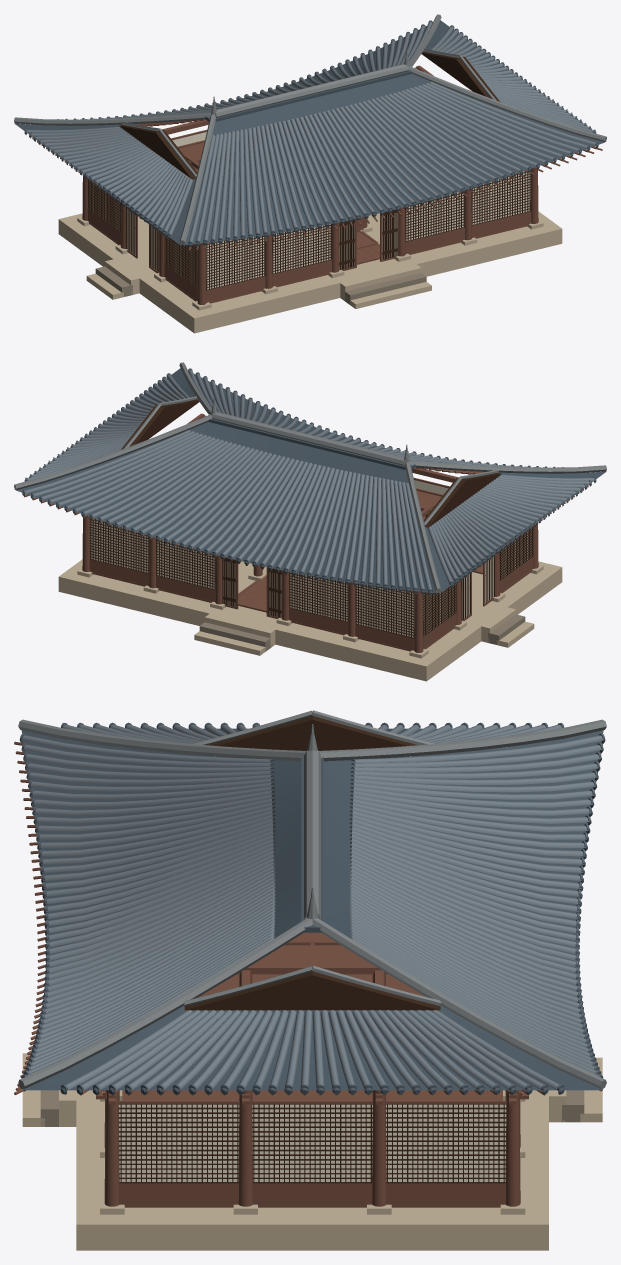
Rendered from hanok-anchae-v2.glb.
3 views of the same model, one above another, from view 1: azimuth 30°, elevation 25°; view 2: azimuth 150°, elevation 25°; view 3: azimuth 270°, elevation 25° (orthographic). The views are drawn at different scales.
Visible parts, largest first — view 1: GEO-anchae-roof, GEO-anchae-stone, GEO-anchae-lattice, GEO-anchae-paper, GEO-anchae-timber, GEO-anchae-ridge, GEO-anchae-steps, GEO-anchae-columns, GEO-anchae-caps, GEO-anchae-gable; view 2: GEO-anchae-roof, GEO-anchae-stone, GEO-anchae-lattice, GEO-anchae-paper, GEO-anchae-timber, GEO-anchae-ridge, GEO-anchae-steps, GEO-anchae-columns, GEO-anchae-caps, GEO-anchae-gable; view 3: GEO-anchae-roof, GEO-anchae-stone, GEO-anchae-paper, GEO-anchae-timber, GEO-anchae-ridge, GEO-anchae-lattice, GEO-anchae-gable, GEO-anchae-columns, GEO-anchae-caps, GEO-anchae-steps.
Boxes of the visible parts, x1,y1,x2,y2 form: GEO-anchae-roof: (14, 20, 606, 245); GEO-anchae-stone: (58, 211, 562, 333); GEO-anchae-lattice: (87, 170, 531, 290); GEO-anchae-paper: (89, 132, 530, 289); GEO-anchae-timber: (32, 65, 602, 303); GEO-anchae-ridge: (14, 14, 606, 244); GEO-anchae-steps: (86, 259, 431, 308); GEO-anchae-columns: (82, 163, 538, 304); GEO-anchae-caps: (24, 20, 598, 246); GEO-anchae-gable: (119, 51, 499, 179); GEO-anchae-roof: (14, 368, 606, 593); GEO-anchae-stone: (58, 559, 562, 681); GEO-anchae-lattice: (89, 518, 533, 638); GEO-anchae-paper: (90, 480, 531, 637); GEO-anchae-timber: (24, 413, 588, 651); GEO-anchae-ridge: (14, 362, 606, 592); GEO-anchae-steps: (194, 607, 534, 655); GEO-anchae-columns: (82, 511, 538, 652); GEO-anchae-caps: (22, 368, 596, 594); GEO-anchae-gable: (121, 399, 501, 527); GEO-anchae-roof: (21, 724, 604, 1090); GEO-anchae-stone: (76, 1090, 548, 1250); GEO-anchae-paper: (118, 1104, 506, 1181); GEO-anchae-timber: (14, 741, 602, 1207); GEO-anchae-ridge: (18, 710, 606, 1089); GEO-anchae-lattice: (118, 1104, 506, 1183); GEO-anchae-gable: (184, 716, 440, 1010); GEO-anchae-columns: (104, 971, 520, 1206); GEO-anchae-caps: (19, 722, 605, 1094); GEO-anchae-steps: (22, 1053, 602, 1126).
Size of the model in its own units: 16.15 by 5.96 by 11.1.
